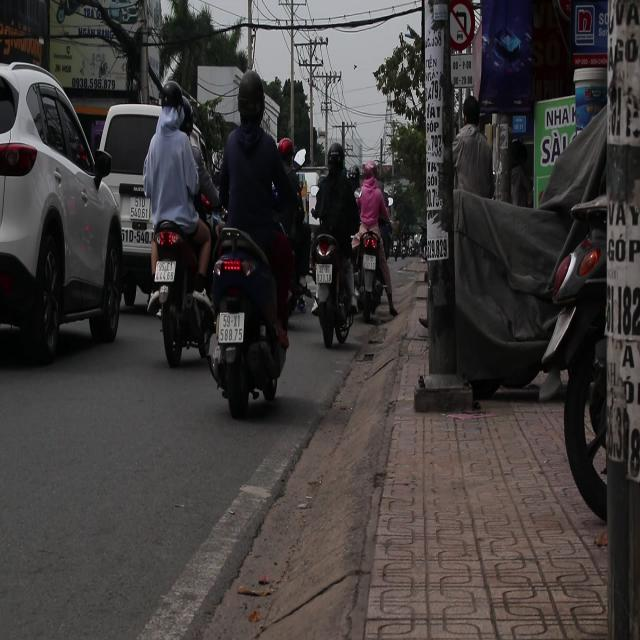car: (0, 51, 126, 366)
motorbike: (205, 218, 289, 416), (148, 214, 217, 368), (345, 224, 398, 338), (307, 232, 357, 348)
